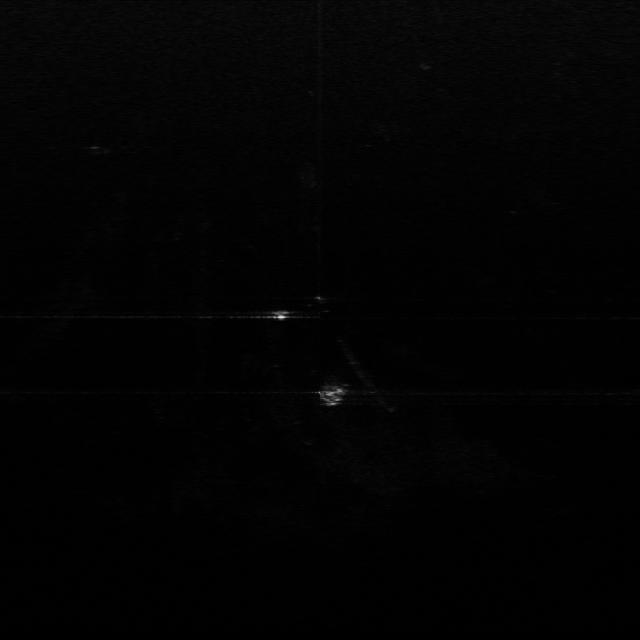rov: (317, 384, 351, 410)
